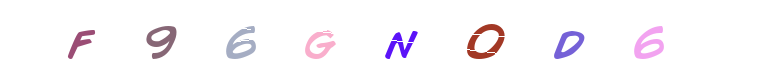0: (445, 0, 525, 80)
6: (269, 0, 349, 80), (592, 0, 672, 80)
9: (221, 0, 301, 80)
D: (510, 0, 590, 80)
F: (111, 0, 191, 80)
G: (345, 0, 425, 80)
N: (360, 0, 440, 80)
